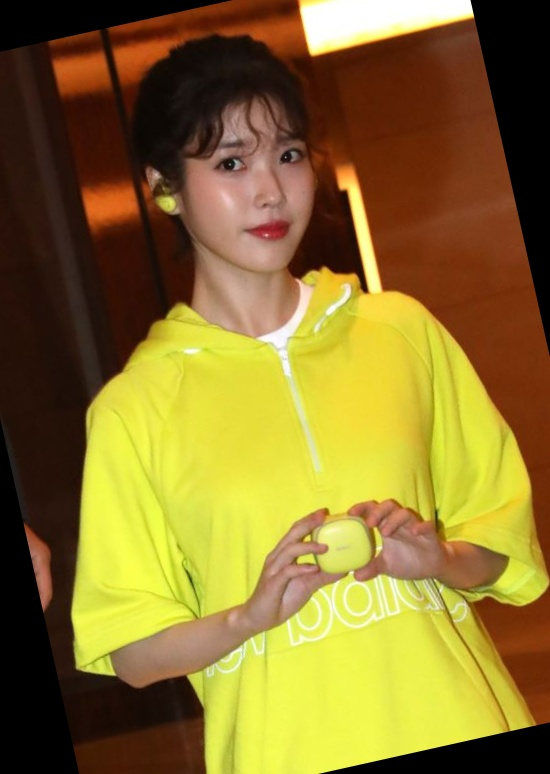earphone: (143, 161, 185, 220)
